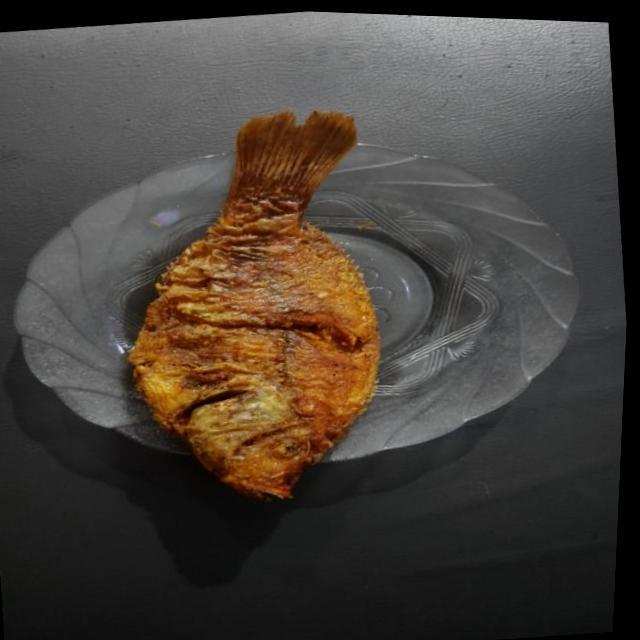ikan_mujair: (130, 111, 380, 498)
